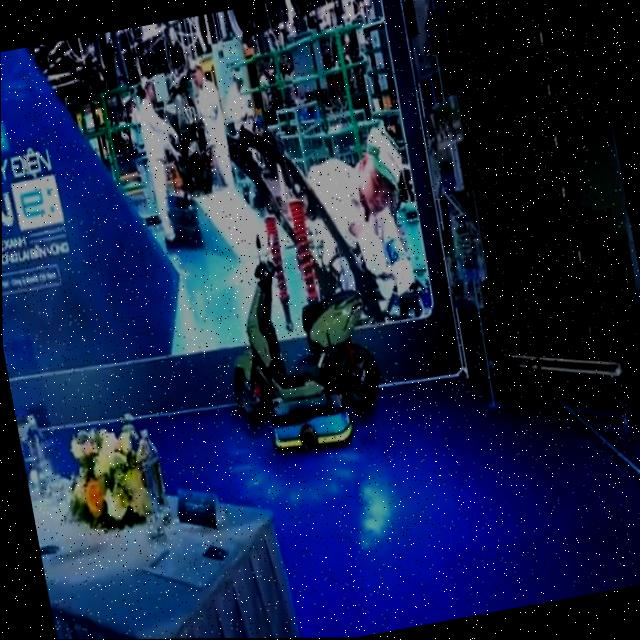motorcycle: (203, 228, 391, 430)
